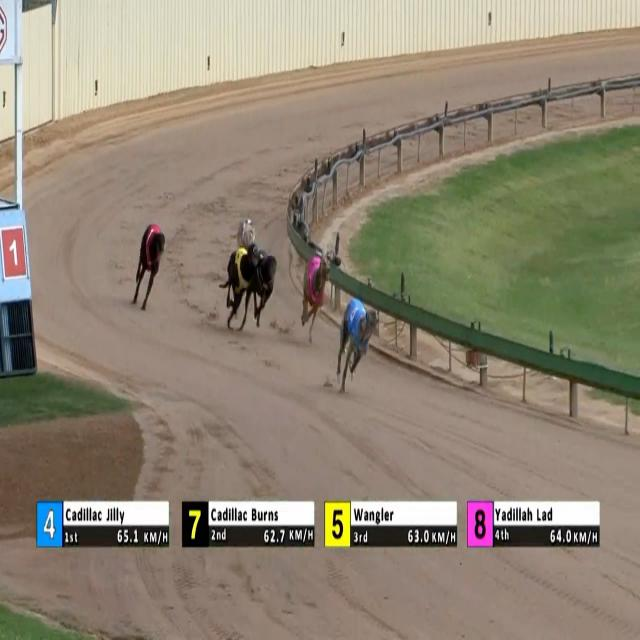dog_eight: (305, 252, 331, 318)
dog_five: (230, 249, 258, 302)
dog_four: (346, 295, 380, 372)
dog_one: (138, 222, 172, 288)
dog_seven: (255, 247, 281, 297)
dog_two: (234, 215, 256, 243)
rail: (286, 74, 639, 400)
